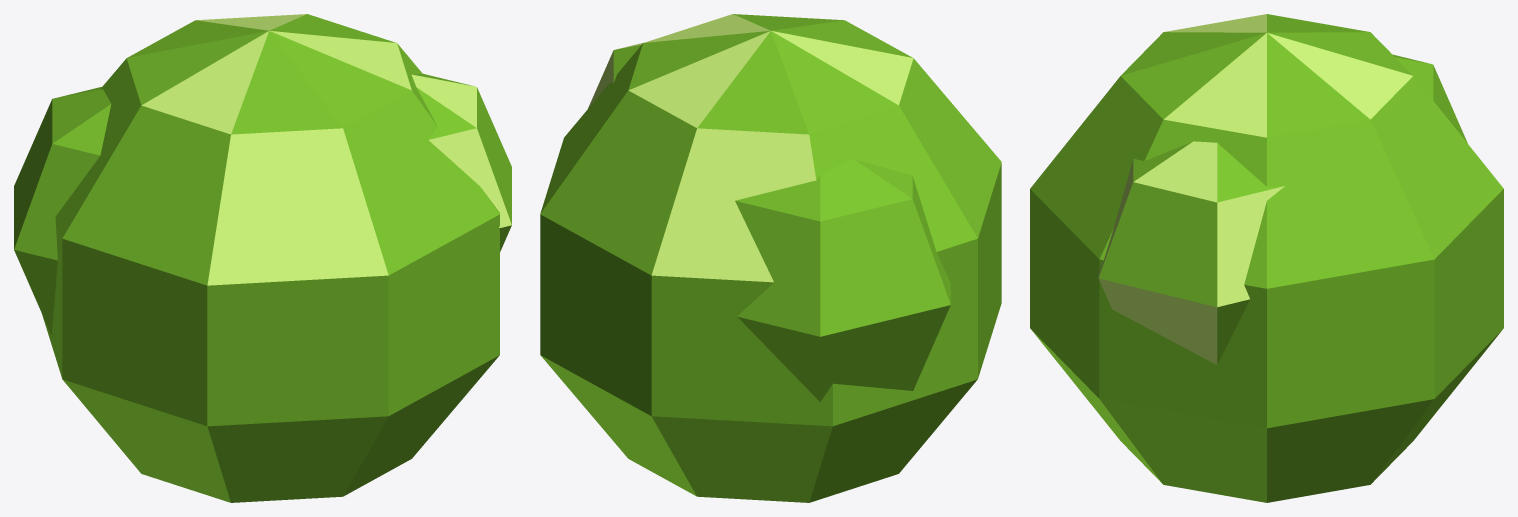
Rendered from toxic_puff.glb.
The picture shows the model from 3 angles, left to right: view 1: azimuth 30°, elevation 25°; view 2: azimuth 150°, elevation 25°; view 3: azimuth 270°, elevation 25°; orthographic projection.
Visible parts, largest first — view 1: toxic_puff; view 2: toxic_puff; view 3: toxic_puff.
Part boxes in pixels (x1=…): toxic_puff: x1=14, y1=14, x2=511, y2=502; toxic_puff: x1=540, y1=14, x2=1001, y2=502; toxic_puff: x1=1030, y1=14, x2=1503, y2=502.
Bounding box in the file's own units: 2 × 2 × 1.9.
Materials: 1 (1 with a texture image).
